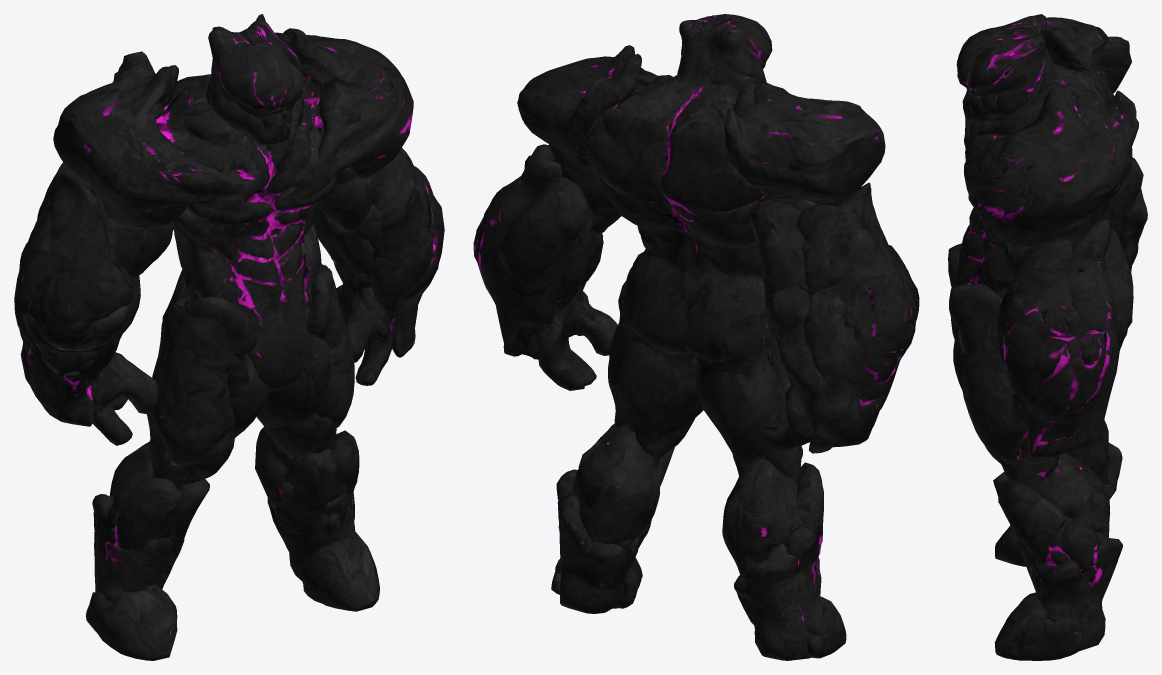
Rendered from Shadow_Golem_OBJ.obj.
3 renders of one model, left to right at view 1: azimuth 30°, elevation 25°; view 2: azimuth 150°, elevation 25°; view 3: azimuth 270°, elevation 25°, orthographic. The views are drawn at different scales.
Visible parts, largest first — view 1: LOW_POLY1_meshId0_name; view 2: LOW_POLY1_meshId0_name; view 3: LOW_POLY1_meshId0_name.
Part boxes in pixels (x1,y1,x2,y2): LOW_POLY1_meshId0_name: (14,14,444,660); LOW_POLY1_meshId0_name: (473,14,919,660); LOW_POLY1_meshId0_name: (948,14,1147,660).
Bounding box in the file's own units: 4.88 × 6.59 × 2.06.
